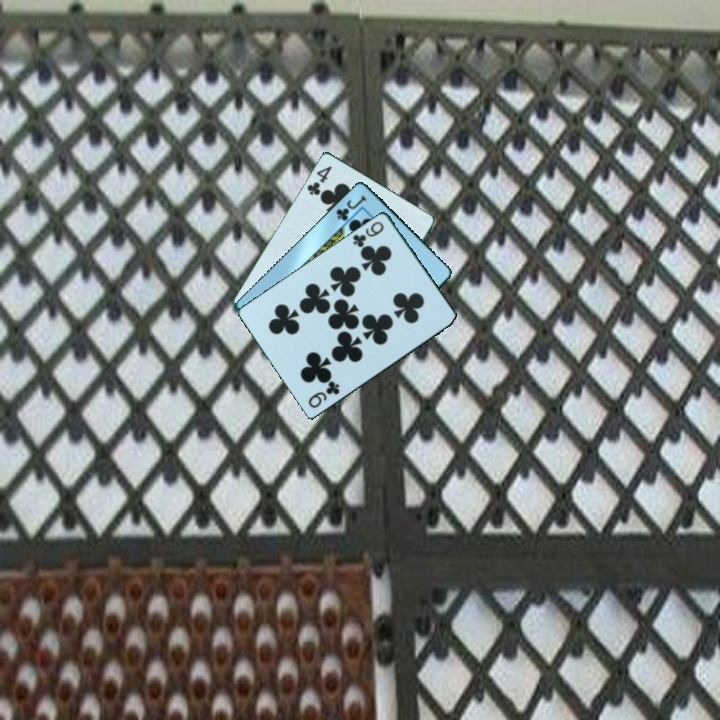4c: (303, 162, 335, 198)
9c: (349, 217, 387, 250), (305, 378, 343, 411)
Jc: (332, 191, 370, 224)
